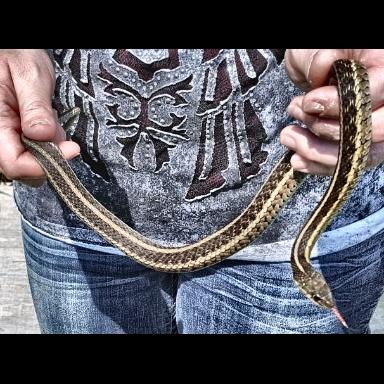snake: (18, 45, 378, 326)
